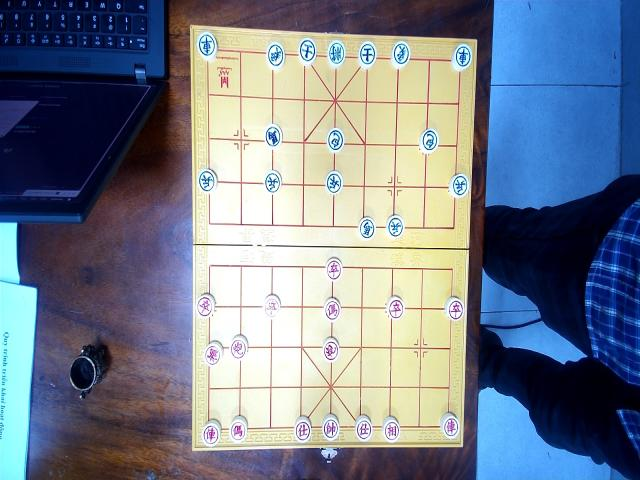piece: (451, 42, 473, 70), (197, 31, 217, 60), (448, 172, 470, 198), (439, 412, 459, 439), (202, 419, 222, 446), (202, 341, 222, 368), (418, 127, 438, 154), (390, 41, 410, 68), (326, 40, 346, 67), (266, 42, 285, 70), (298, 36, 317, 64), (294, 414, 312, 442), (229, 414, 247, 442), (444, 296, 464, 321), (354, 415, 372, 442), (382, 415, 400, 442), (358, 41, 376, 68), (196, 292, 214, 318), (322, 337, 340, 363), (230, 333, 248, 359), (322, 414, 339, 441), (386, 214, 404, 239), (198, 167, 216, 192), (324, 170, 342, 195), (264, 123, 281, 149), (324, 256, 342, 280), (386, 295, 404, 319), (326, 127, 344, 151), (324, 297, 341, 322), (358, 216, 376, 239), (264, 294, 280, 317), (264, 170, 280, 193)
